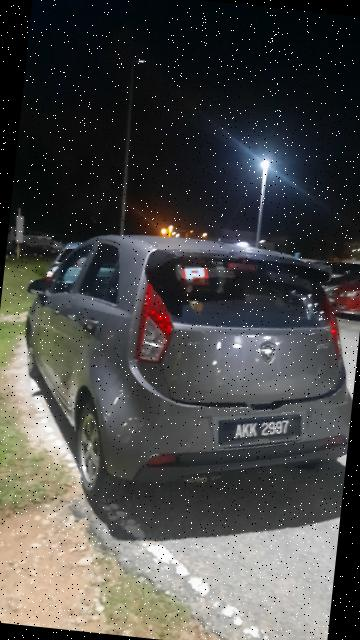License_Plate: (218, 407, 308, 451)
car: (8, 220, 360, 525)
